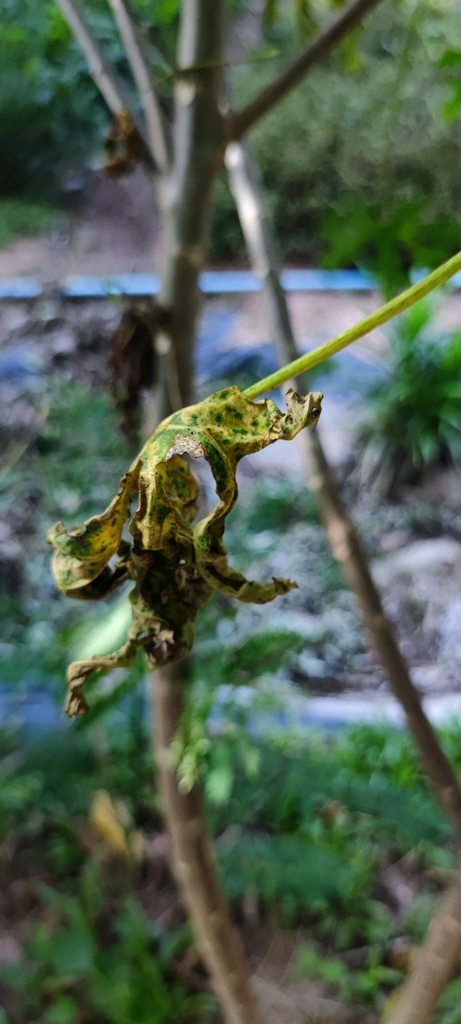Alternaria brassicicola: (44, 376, 336, 723)
